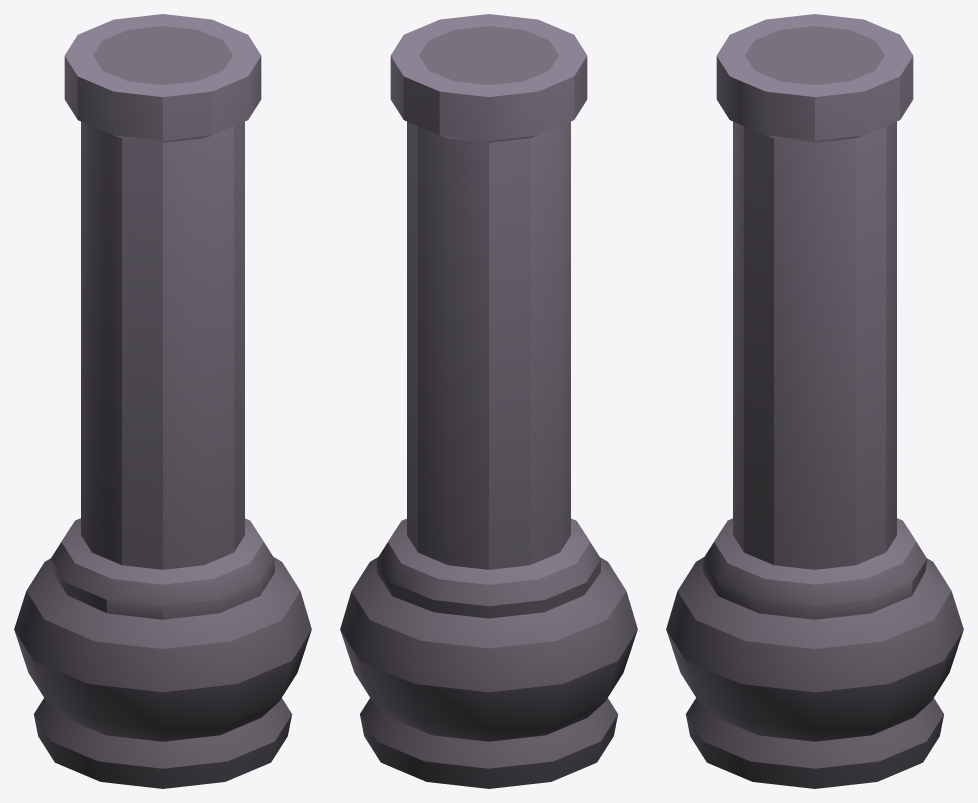
The model's file is pillar_4_long.glb.
The picture shows the model from 3 angles, left to right: view 1: azimuth 30°, elevation 25°; view 2: azimuth 150°, elevation 25°; view 3: azimuth 270°, elevation 25°; orthographic projection.
Visible parts, largest first — view 1: pillar_4_long; view 2: pillar_4_long; view 3: pillar_4_long.
Part boxes in pixels (bbox=[...]): pillar_4_long: bbox=[14, 14, 311, 788]; pillar_4_long: bbox=[340, 14, 637, 788]; pillar_4_long: bbox=[666, 14, 963, 788].
Bounding box in the file's own units: 1.11 × 2.79 × 1.11.
Materials: 1 (1 with a texture image).
